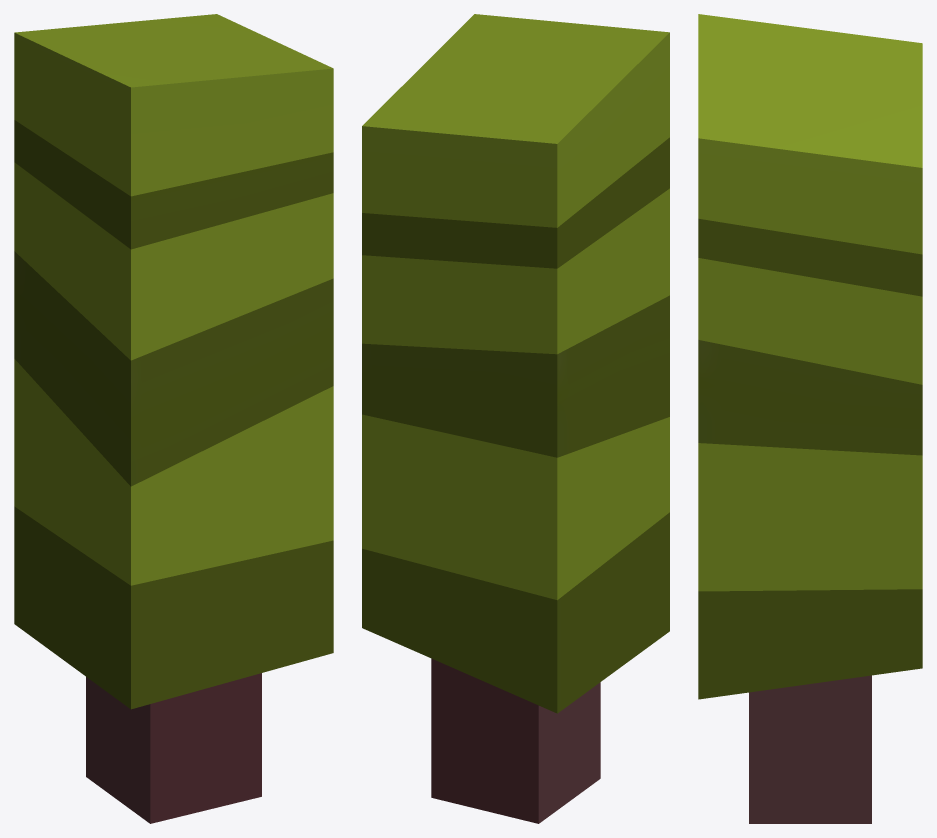
The model's file is tree2.FBX.
The picture shows the model from 3 angles, left to right: view 1: azimuth 30°, elevation 25°; view 2: azimuth 150°, elevation 25°; view 3: azimuth 270°, elevation 25°; orthographic projection. The views are drawn at different scales.
Parts seen in each view (by area): view 1: tree2; view 2: tree2; view 3: tree2.
Part boxes in pixels (x1,y1,x2,y2): tree2: (14, 14, 333, 823); tree2: (362, 14, 669, 823); tree2: (698, 14, 922, 823).
Size of the model in its own units: 18.42 by 18.37 by 66.56.
